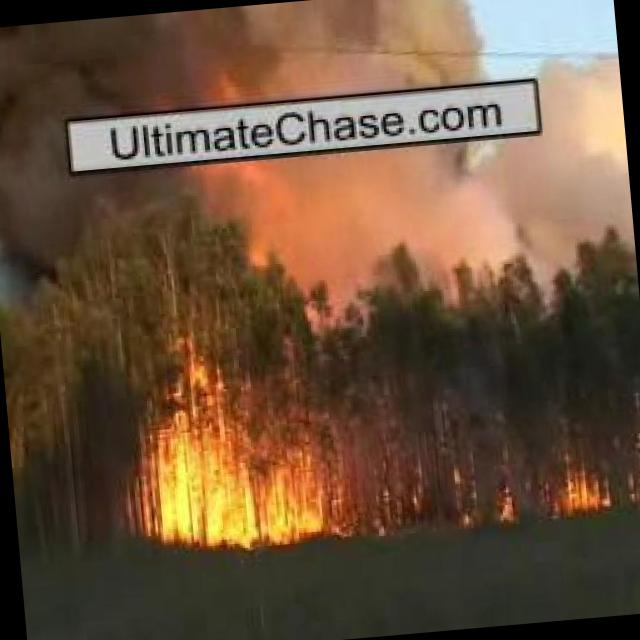Fire: (131, 396, 348, 559), (448, 466, 521, 532), (554, 458, 622, 514)
Smoke: (232, 124, 636, 298), (0, 0, 495, 123)
